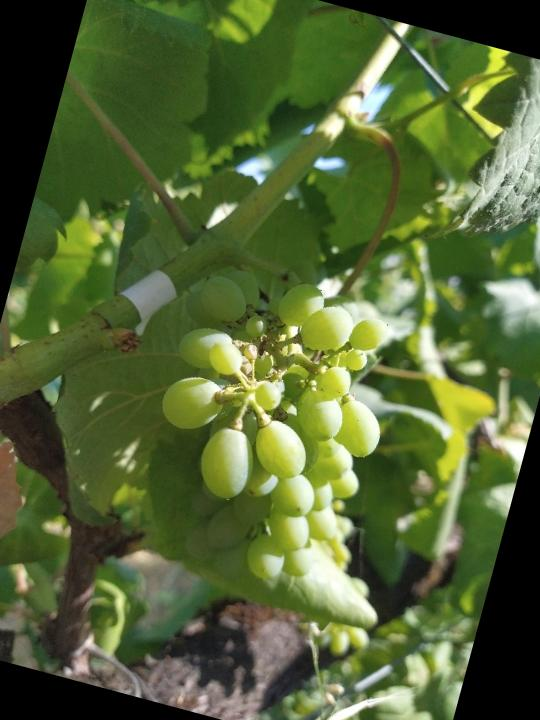grape: (111, 242, 418, 609)
